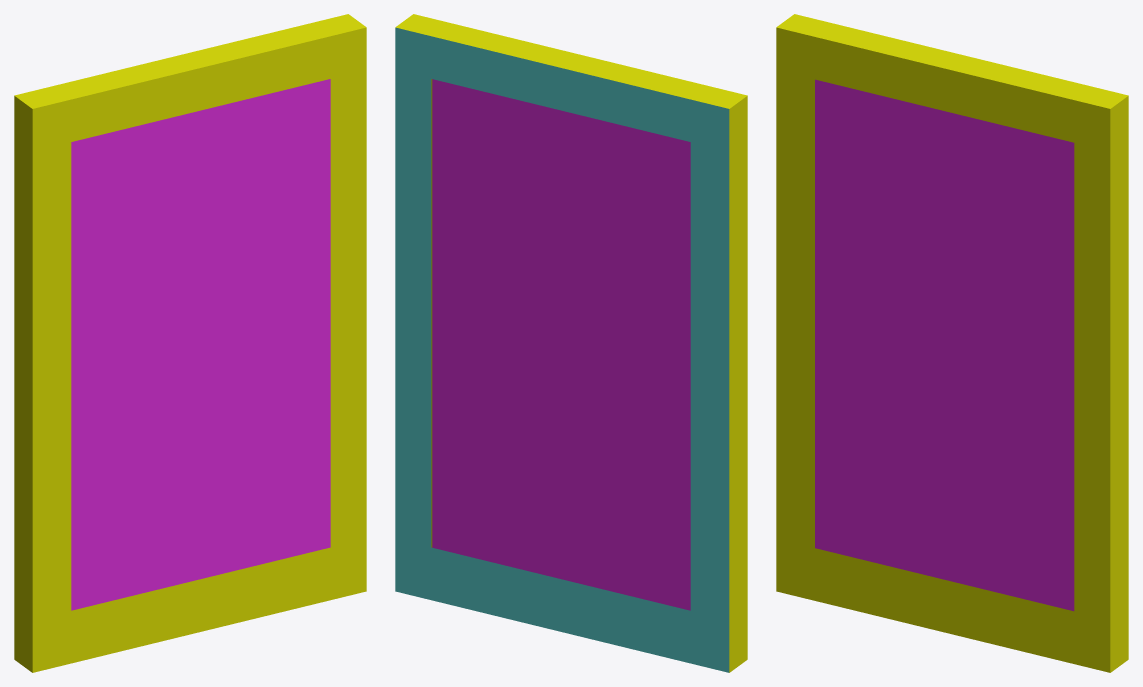
The model's file is Mall_wall_tillable.fbx.
3 views of the same model, side by side, from view 1: azimuth 30°, elevation 25°; view 2: azimuth 150°, elevation 25°; view 3: azimuth 330°, elevation 25° (orthographic).
Visible parts, largest first — view 1: glass1, frame_; view 2: glass1, frame_; view 3: glass1, frame_.
Part boxes in pixels (x1,y1,x2,y2): glass1: (71,79,330,610); frame_: (14,14,366,672); glass1: (432,79,690,610); frame_: (395,14,747,672); glass1: (815,79,1074,611); frame_: (776,14,1128,672).
Bounding box in the file's own units: 3.21 × 5.18 × 0.3056.
